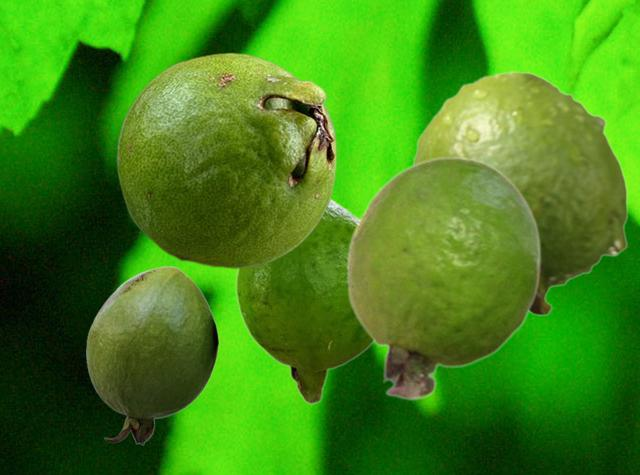guava: (412, 70, 627, 315), (346, 155, 541, 400), (116, 52, 336, 268), (235, 199, 372, 404), (86, 266, 218, 444)
